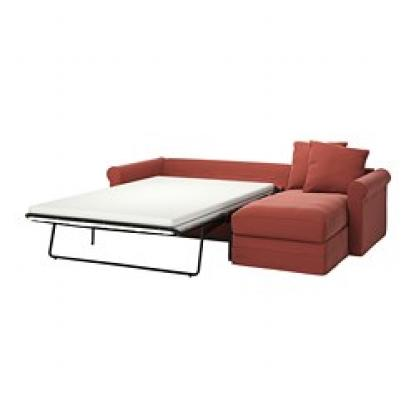Sofa: (21, 128, 388, 283)
